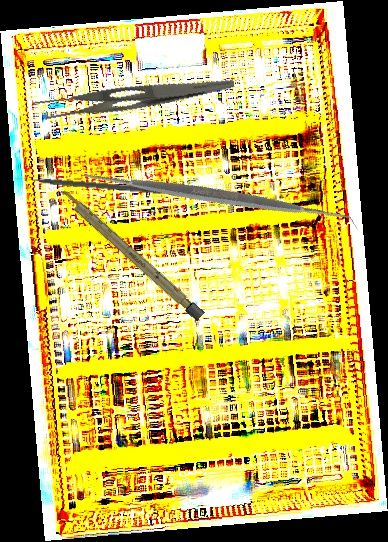Dressing Forceps: (30, 57, 236, 131)
Pusher: (14, 173, 167, 195)
Scalpel Handle: (57, 186, 205, 322)
Spatula Surgical: (76, 56, 359, 337)
